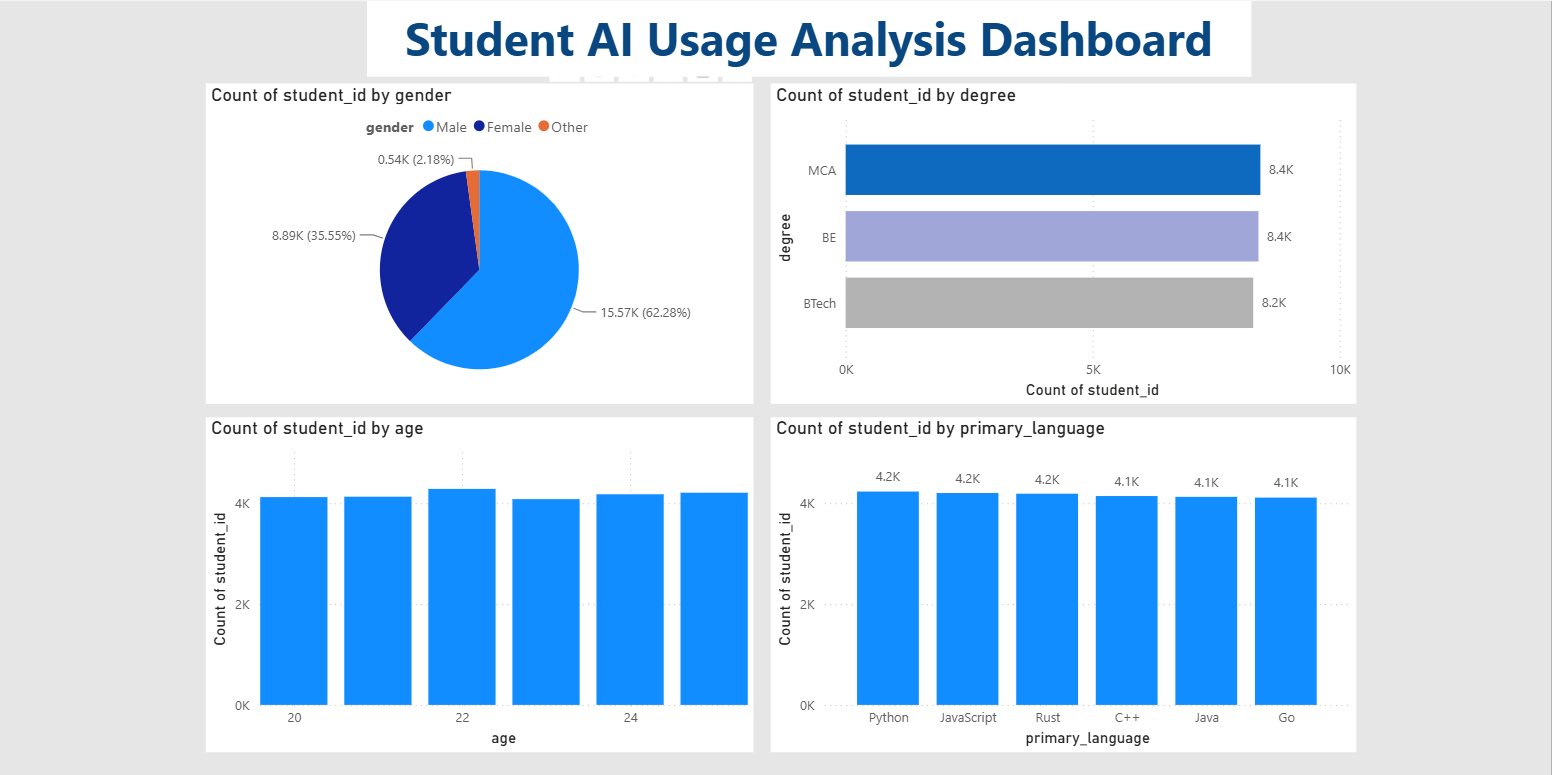

The page's visual inventory and layout, read from the dashboard file:
{"tool":"powerbi","page":{"name":"Demographics","canvas":[1280,720],"ordinal":1},"visuals":[{"type":"pieChart","fields":{"Category":["student_placement_career_success_dataset.gender"],"Y":["CountNonNull(student_placement_career_success_dataset.student_id)"]},"box":[110.3,76.2,508.8,297.5],"z":0},{"type":"columnChart","fields":{"Y":["CountNonNull(student_placement_career_success_dataset.student_id)"],"Category":["student_placement_career_success_dataset.age"]},"box":[110.3,386.2,508.8,311.2],"z":1000},{"type":"barChart","fields":{"Category":["student_placement_career_success_dataset.degree"],"Y":["CountNonNull(student_placement_career_success_dataset.student_id)"]},"box":[635.3,76.2,543.8,297.5],"z":2000},{"type":"clusteredColumnChart","fields":{"Category":["student_placement_career_success_dataset.primary_language"],"Y":["Count(student_placement_career_success_dataset.student_id)"]},"box":[635.3,386.2,543.8,311.2],"z":3000},{"type":"textbox","box":[260,0,821.2,70],"z":4000}]}

Visuals, with their boxes on the page's 1280x720 design canvas (x1, y1, x2, y2). These are canvas units, not pixel positions in the 1552x775 screenshot, which may show the page scaled, cropped or inside an application window:
pieChart - student_placement_career_success_dataset.gender x CountNonNull(student_placement_career_success_dataset.student_id): (110, 76, 619, 374)
columnChart - CountNonNull(student_placement_career_success_dataset.student_id) x student_placement_career_success_dataset.age: (110, 386, 619, 697)
barChart - student_placement_career_success_dataset.degree x CountNonNull(student_placement_career_success_dataset.student_id): (635, 76, 1179, 374)
clusteredColumnChart - student_placement_career_success_dataset.primary_language x Count(student_placement_career_success_dataset.student_id): (635, 386, 1179, 697)
textbox: (260, 0, 1081, 70)
